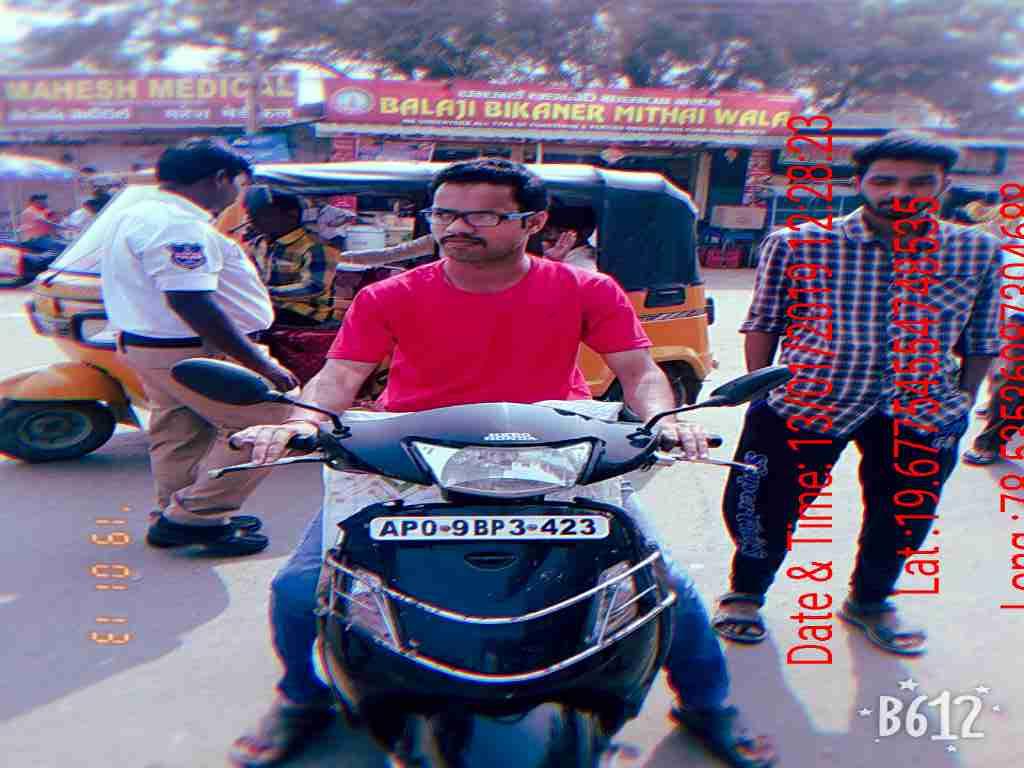plate: (368, 512, 618, 544)
